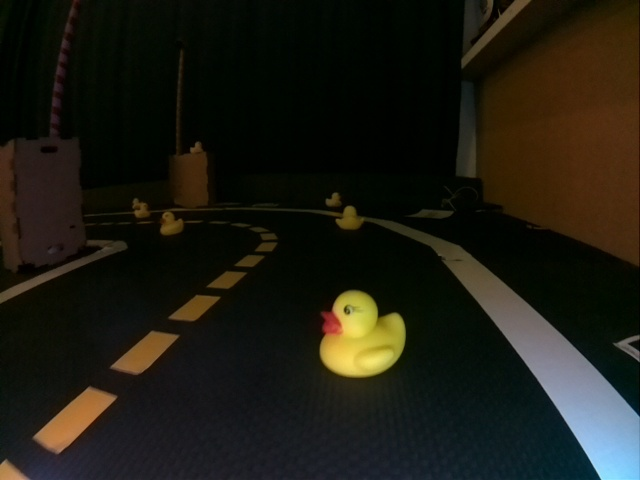Duckie: (320, 289, 404, 378), (337, 205, 364, 229), (160, 212, 183, 235), (325, 193, 342, 207), (135, 203, 150, 218), (190, 141, 204, 153)
